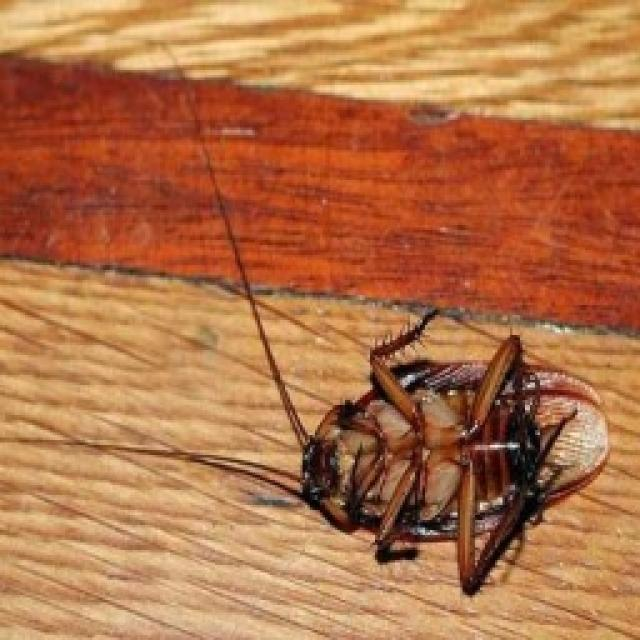cockroach: (190, 343, 622, 596)
